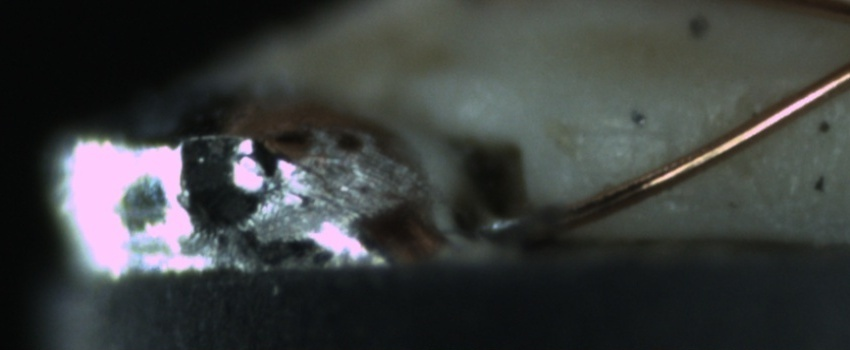DL: (571, 105, 684, 159)
